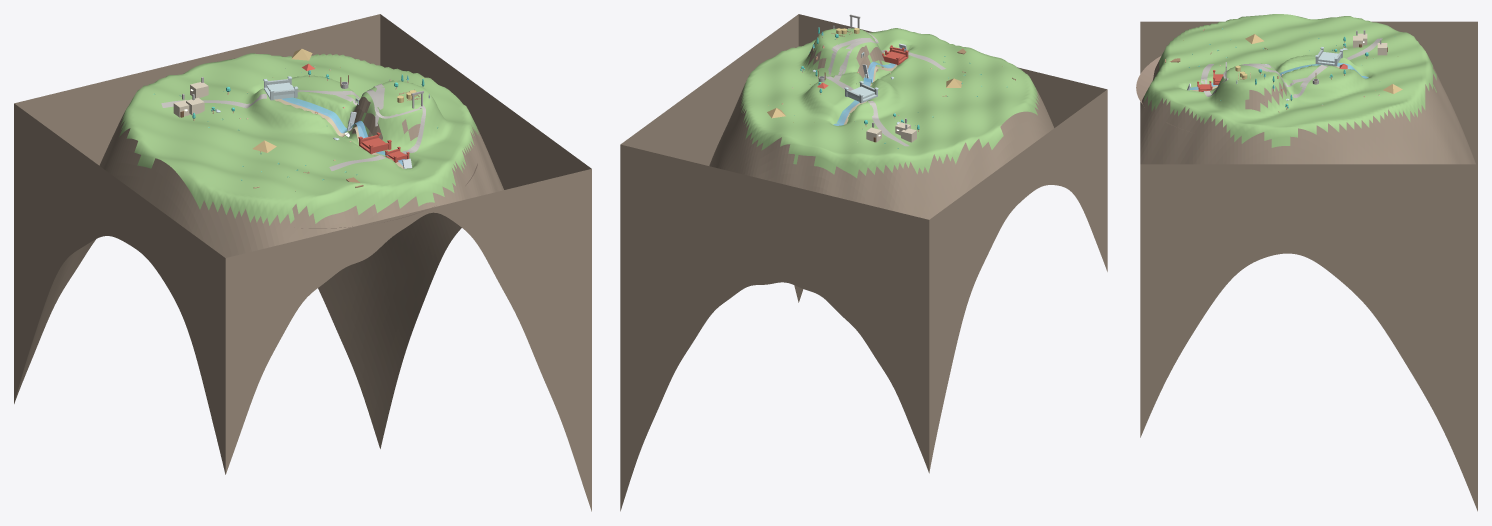
File: world1_isle.glb
The picture shows the model from 3 angles, left to right: view 1: azimuth 30°, elevation 25°; view 2: azimuth 150°, elevation 25°; view 3: azimuth 270°, elevation 25°; orthographic projection. The views are drawn at different scales.
Parts seen in each view (by area): view 1: W1_Terrain, W1_Road_RUP, W1_RiverWater; view 2: W1_Terrain; view 3: W1_Terrain, W1_Skirt, W1_Road_RUP.
Boxes of the visible parts, <box> form: W1_Terrain: <box>14,14,591,511</box>; W1_Road_RUP: <box>329,89,425,170</box>; W1_RiverWater: <box>281,97,405,165</box>; W1_Terrain: <box>620,14,1107,511</box>; W1_Terrain: <box>1140,14,1477,511</box>; W1_Skirt: <box>1136,56,1161,104</box>; W1_Road_RUP: <box>1201,63,1309,96</box>.
Bounding box in the file's own units: 76 × 99.58 × 76.99.
